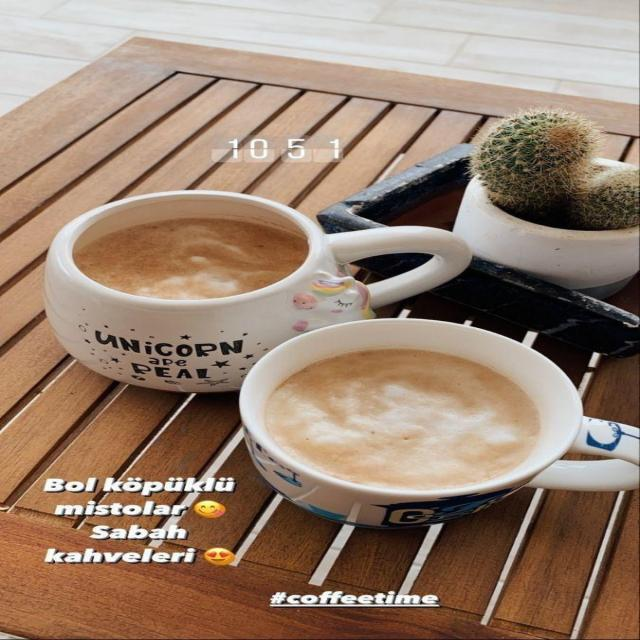cup-handle: (35, 190, 474, 393), (232, 317, 638, 528)
